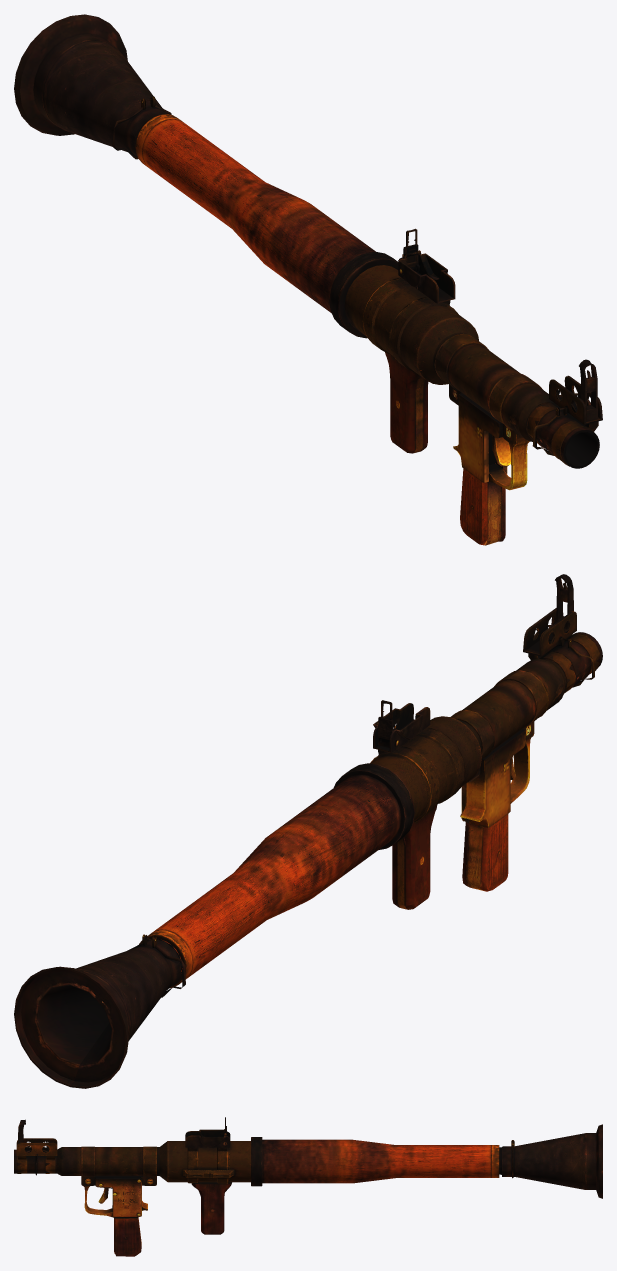
The model's file is RPG.fbx.
The picture shows the model from 3 angles, top to bottom: view 1: azimuth 30°, elevation 25°; view 2: azimuth 150°, elevation 25°; view 3: azimuth 270°, elevation 25°; orthographic projection. The views are drawn at different scales.
Visible parts, largest first — view 1: Launcher; view 2: Launcher; view 3: Launcher.
Part boxes in pixels (left/top/right/bottom): Launcher: left=14, top=14, right=602, bottom=545; Launcher: left=14, top=574, right=602, bottom=1088; Launcher: left=14, top=1117, right=602, bottom=1256.
Bounding box in the file's own units: 16.29 × 33.49 × 128.
1 material, 1 textured.
